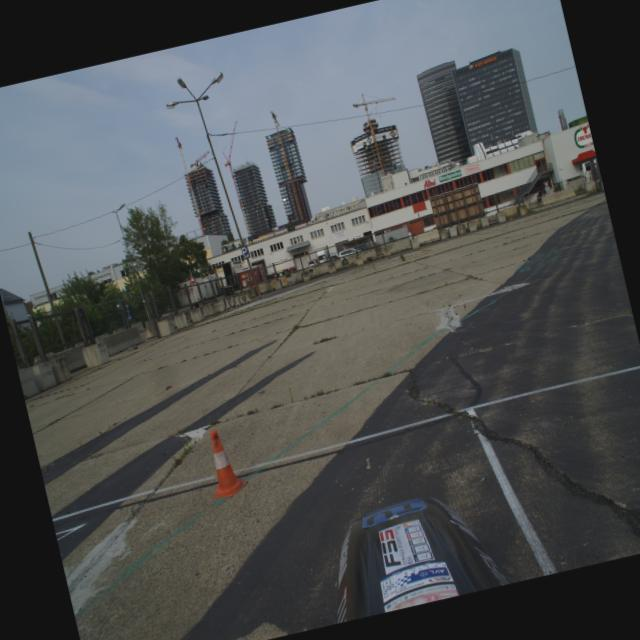orange_cone: (196, 424, 250, 501)
